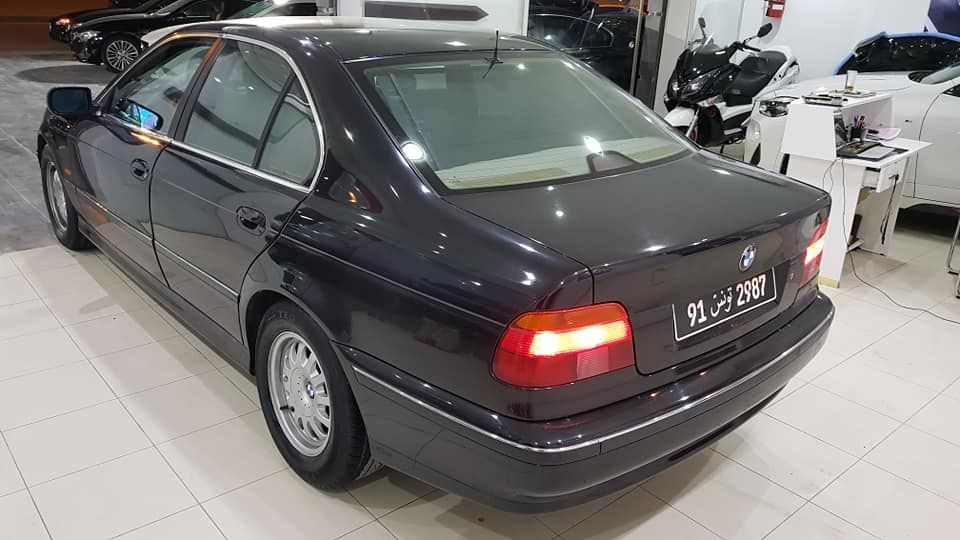LP: (670, 269, 780, 346)
